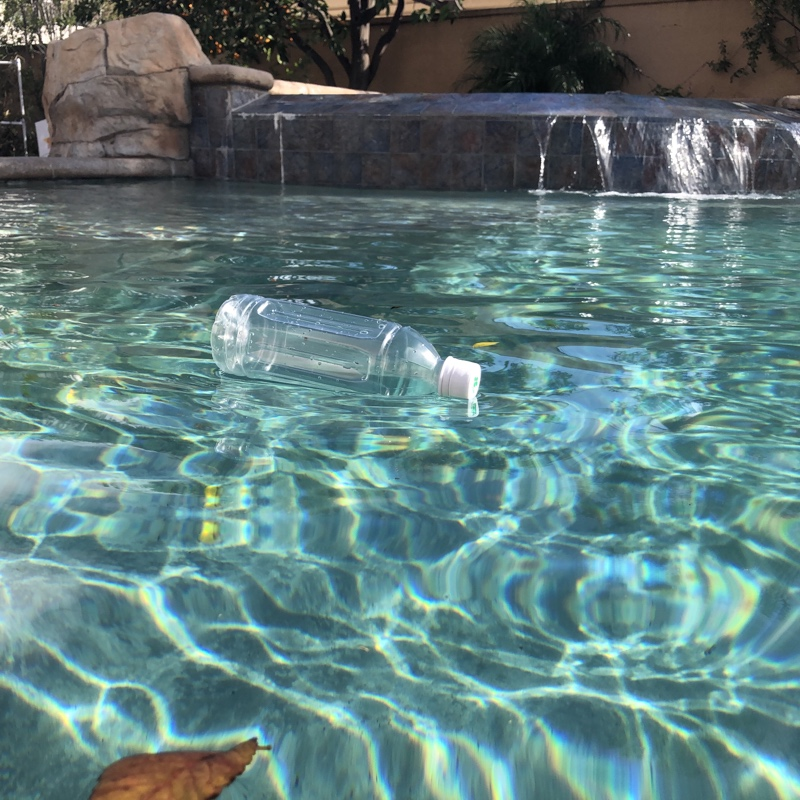Plastic Bottle: (205, 286, 487, 414)
